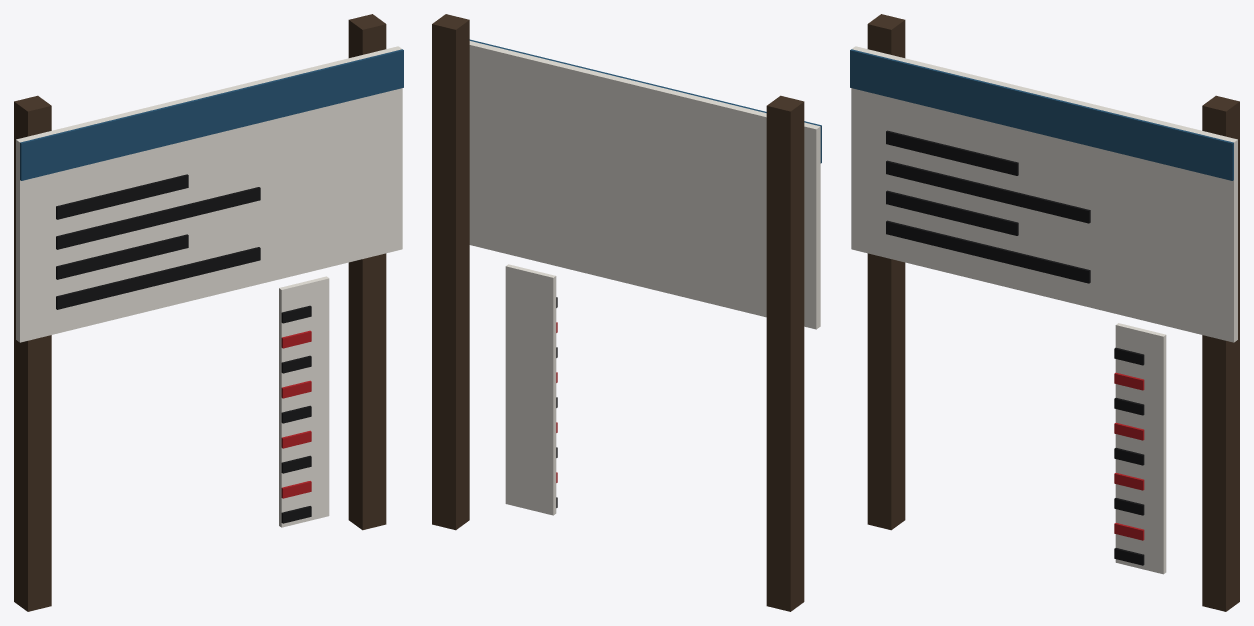
File: hb_tide_board.glb
3 views of the same model, side by side, from view 1: azimuth 30°, elevation 25°; view 2: azimuth 150°, elevation 25°; view 3: azimuth 330°, elevation 25° (orthographic).
Visible parts, largest first — view 1: hb_tide_board; view 2: hb_tide_board; view 3: hb_tide_board.
Boxes of the visible parts, x1=… form: hb_tide_board: x1=14, y1=14, x2=403, y2=611; hb_tide_board: x1=432, y1=14, x2=821, y2=611; hb_tide_board: x1=850, y1=14, x2=1239, y2=611.
Bounding box in the file's own units: 1.6 × 2 × 0.14.
